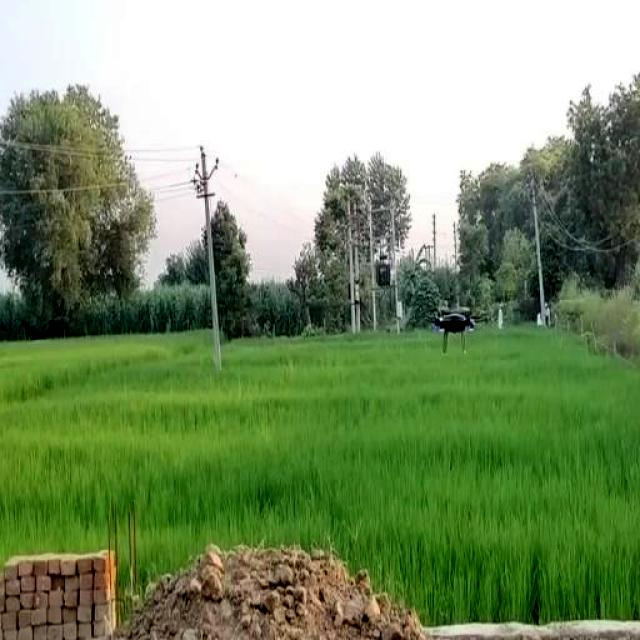bird: (416, 288, 478, 358)
